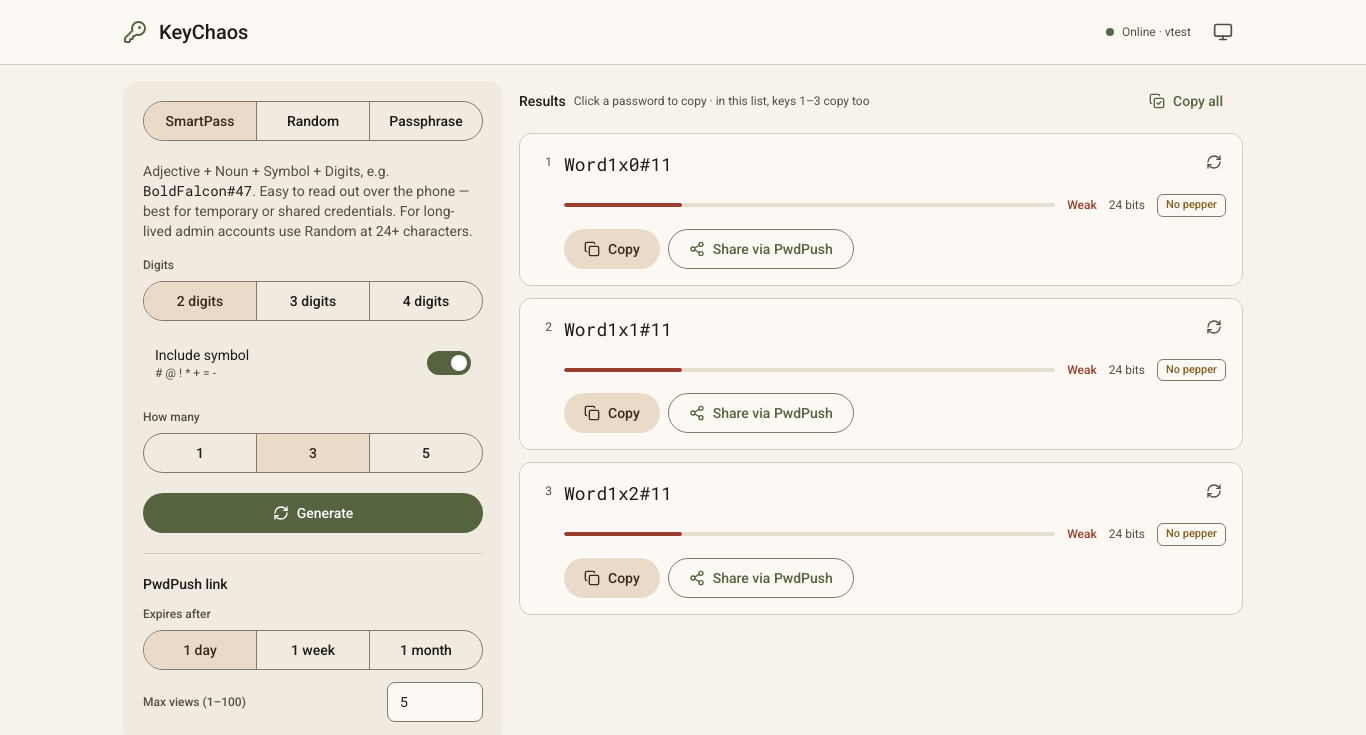
it: App — PwdPush links are never lost or mismatched › keeps a shared link when options change, and asks before replacing it
Expected: the number of list items is 3, [519,133,1243,286]; [519,298,1243,450]; [519,462,1243,614]
Click the radio button labelled "Random" at (312, 121), box [256,102,369,140]
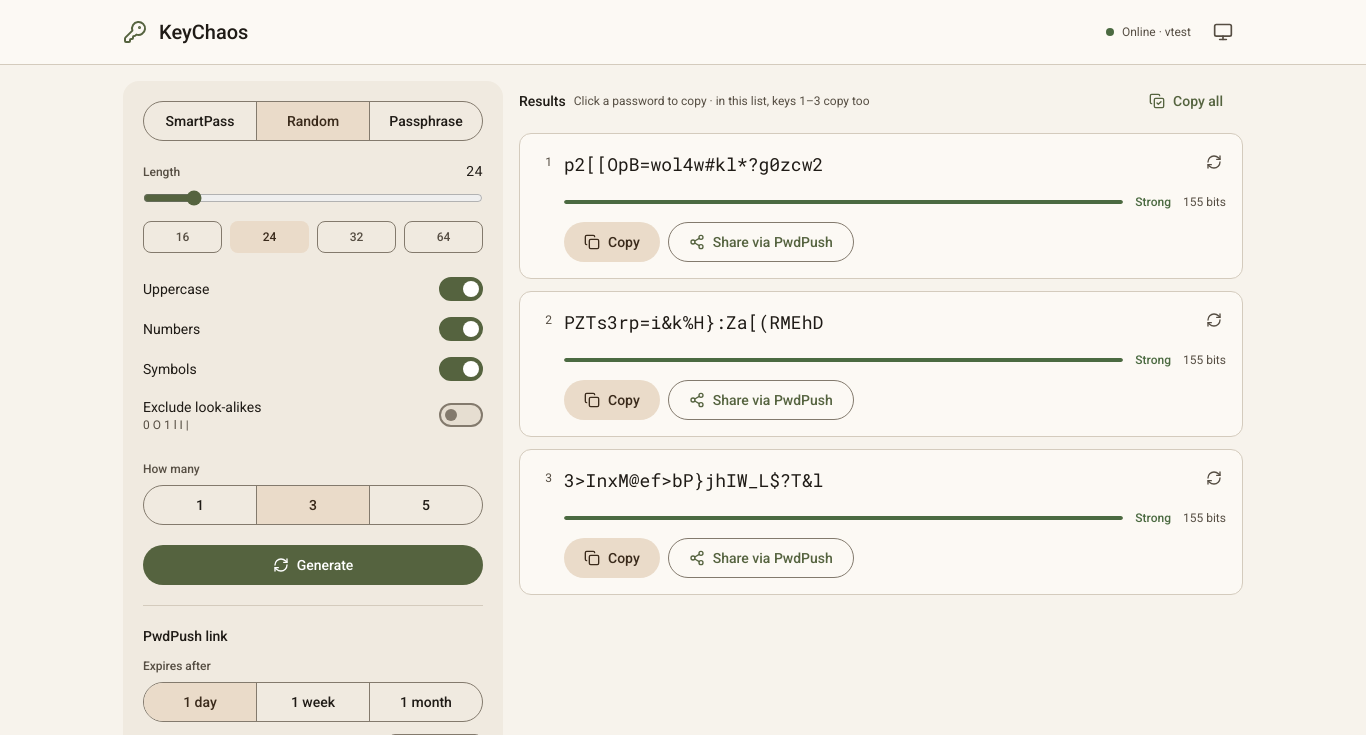
Click the button with aria-label "Share via PwdPush, password 1" at (761, 242), box [668,222,854,262]
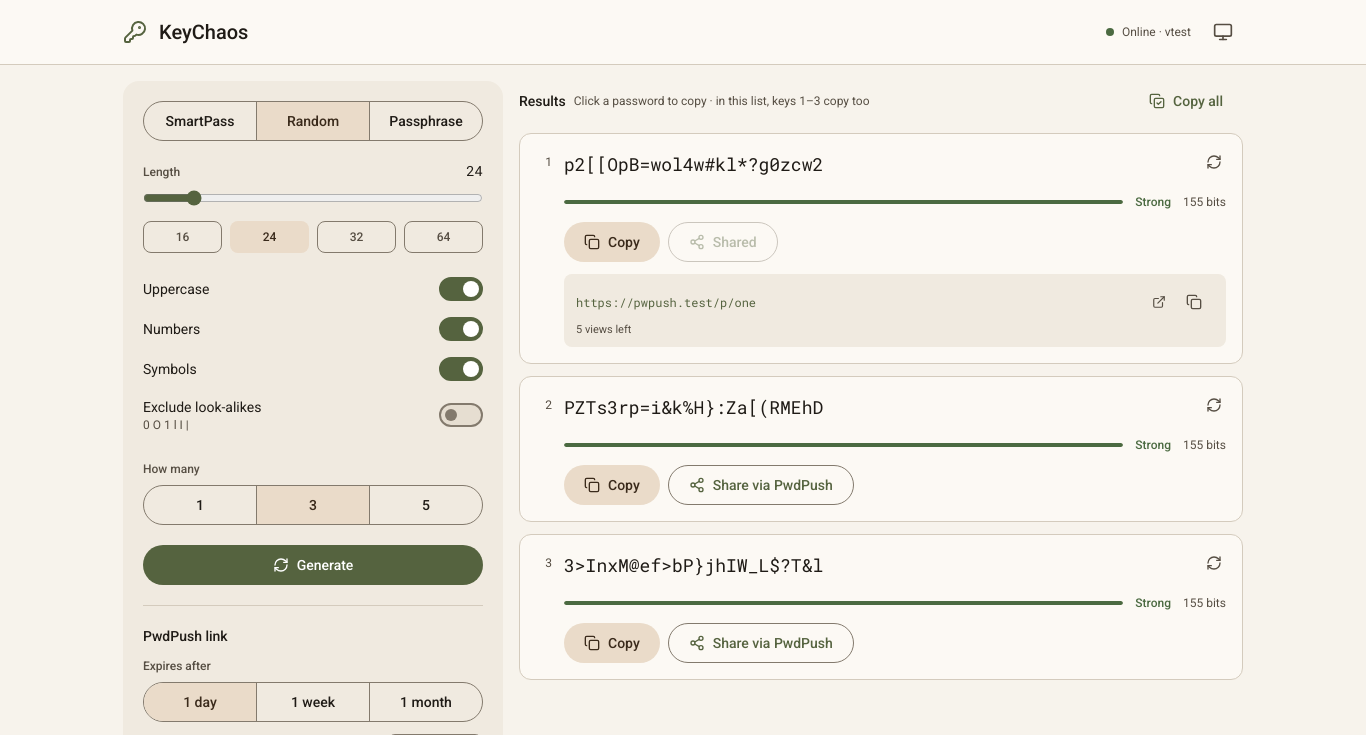
Expected: the link "https://pwpush.test/p/one" is shown, [576,294,756,310]
Set the slider labelled "Length" to "40" at (237, 198), box [143,190,483,206]
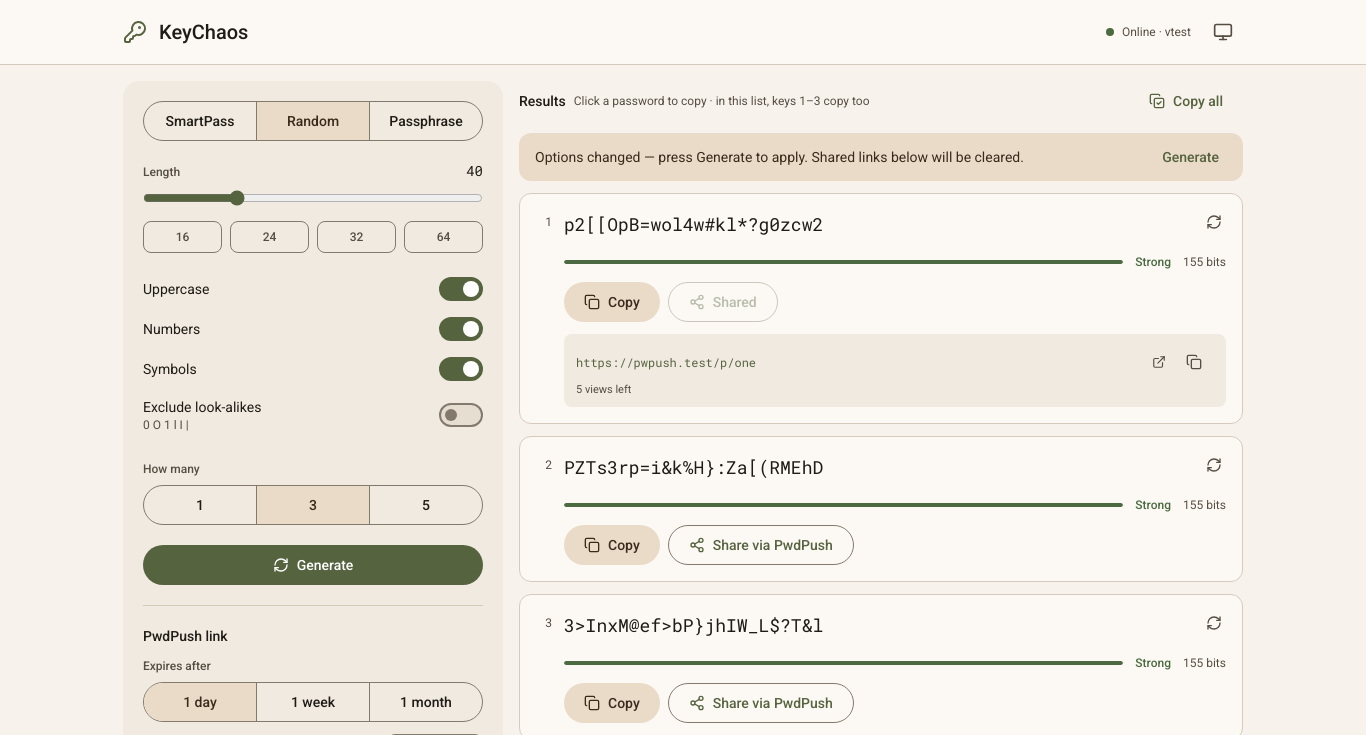
Expected: the link "https://pwpush.test/p/one" is shown, [576,354,756,370]
Expected: the text "Shared links below will be cleared" is shown, [808,149,1024,165]
